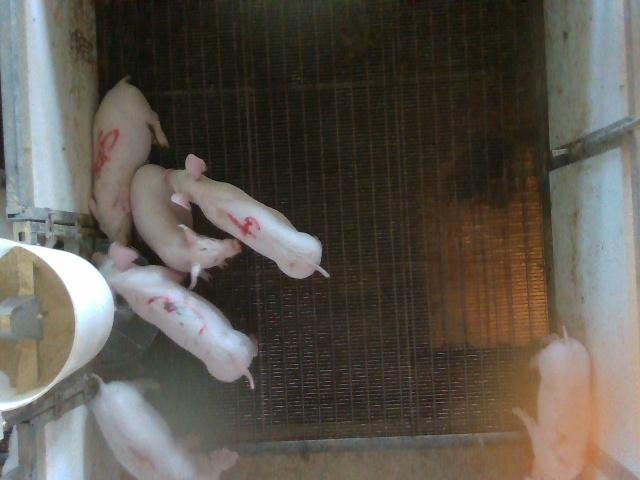pig-1: (90, 380, 196, 479)
pig-2: (515, 331, 591, 478)
pig-3: (94, 241, 258, 388)
pig-4: (170, 155, 329, 278)
pig-5: (90, 79, 168, 244)
